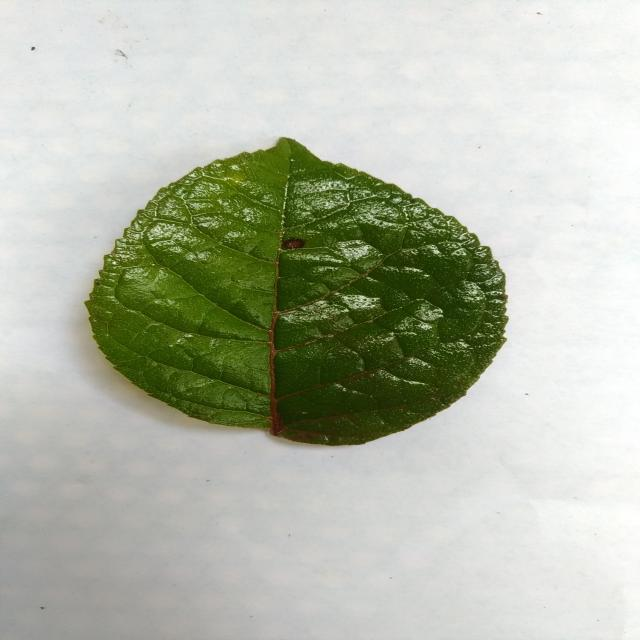padri: (87, 138, 507, 445)
